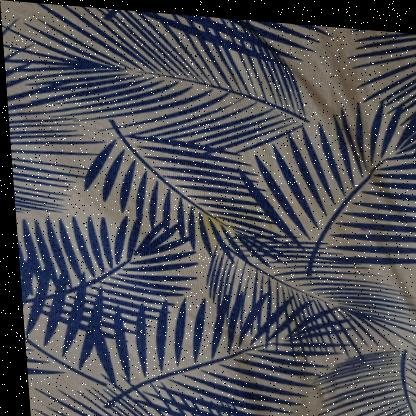spot: (202, 324, 357, 416), (169, 199, 261, 255)
